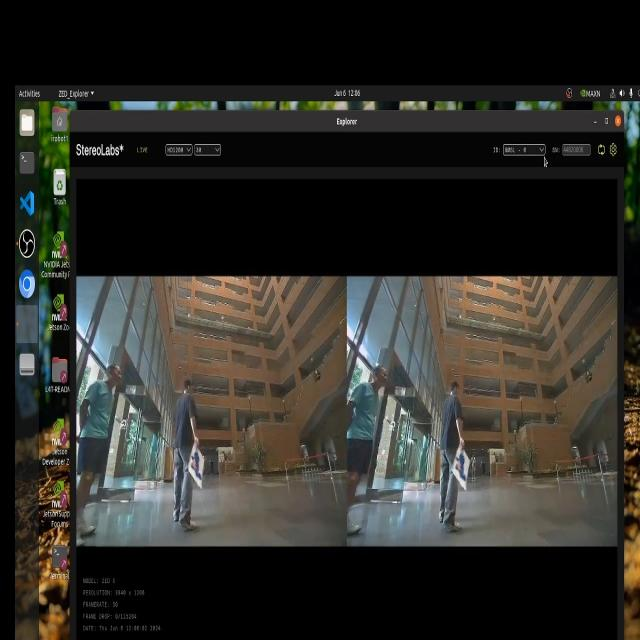blue: (450, 450, 473, 490), (187, 444, 204, 486)
